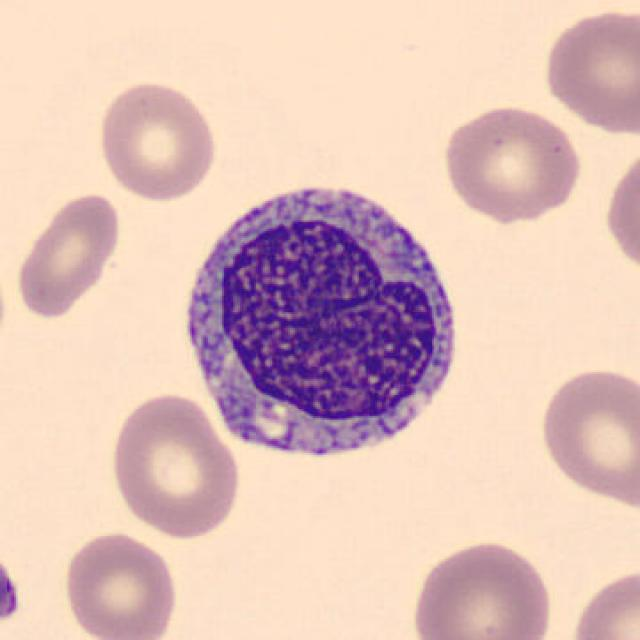Monocyte: (169, 167, 471, 478)
Platelets: (0, 551, 27, 630)
RBC: (105, 390, 243, 540), (437, 100, 585, 224), (407, 536, 558, 640), (94, 78, 220, 202), (11, 188, 126, 322), (535, 362, 638, 509), (59, 529, 181, 640), (539, 6, 638, 138), (565, 564, 640, 640), (601, 141, 638, 280)
